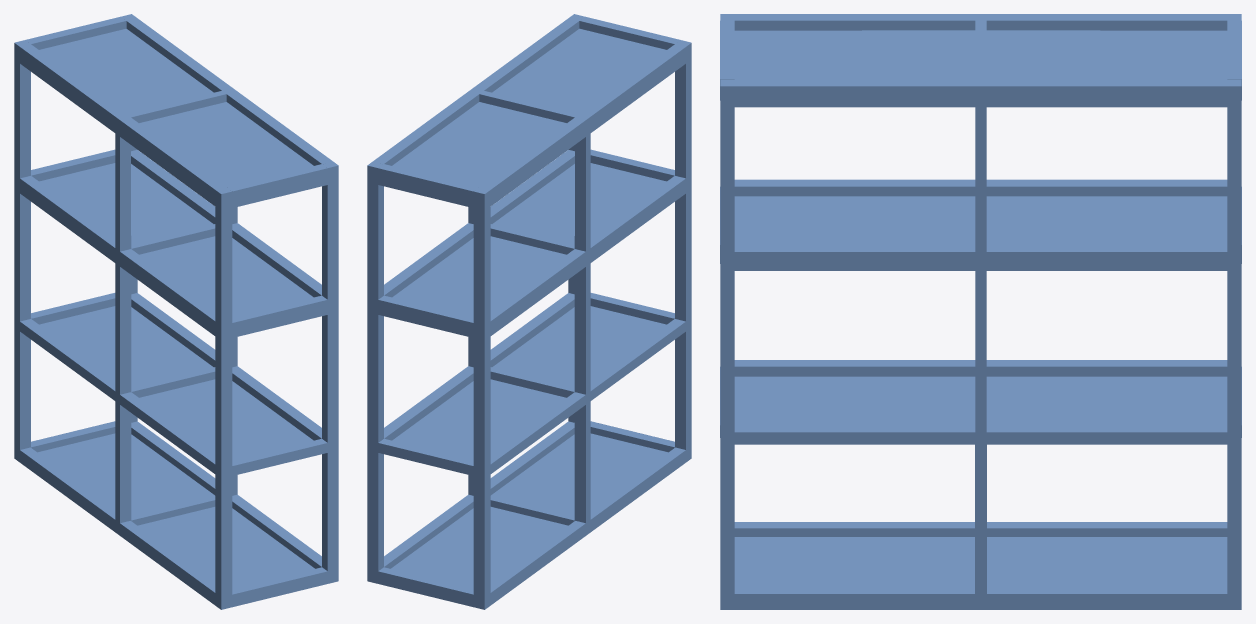
File: shelves.fbx
3 renders of one model, left to right at view 1: azimuth 30°, elevation 25°; view 2: azimuth 150°, elevation 25°; view 3: azimuth 270°, elevation 25°, orthographic. The views are drawn at different scales.
Parts seen in each view (by area): view 1: Cube; view 2: Cube; view 3: Cube.
Part boxes in pixels (x1,y1,x2,y2): Cube: (14,14,338,609); Cube: (367,14,691,609); Cube: (720,14,1241,609).
Size of the model in its own units: 200 by 676 by 610.
